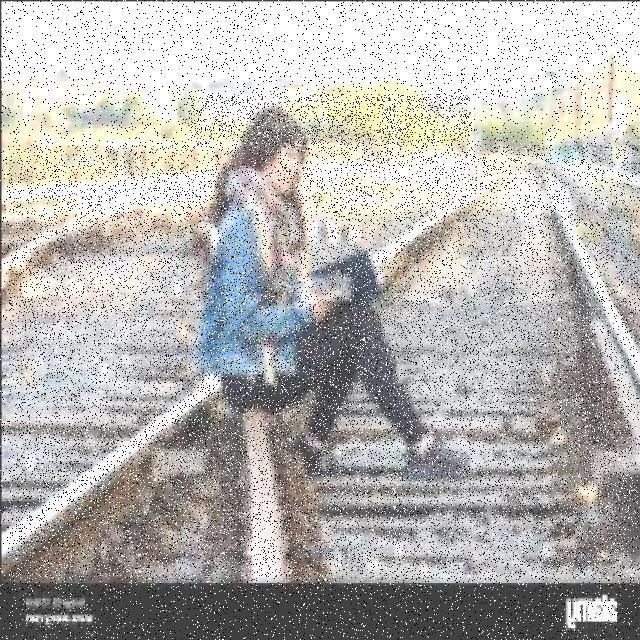danger: (188, 94, 471, 488)
rail: (9, 145, 638, 580)
